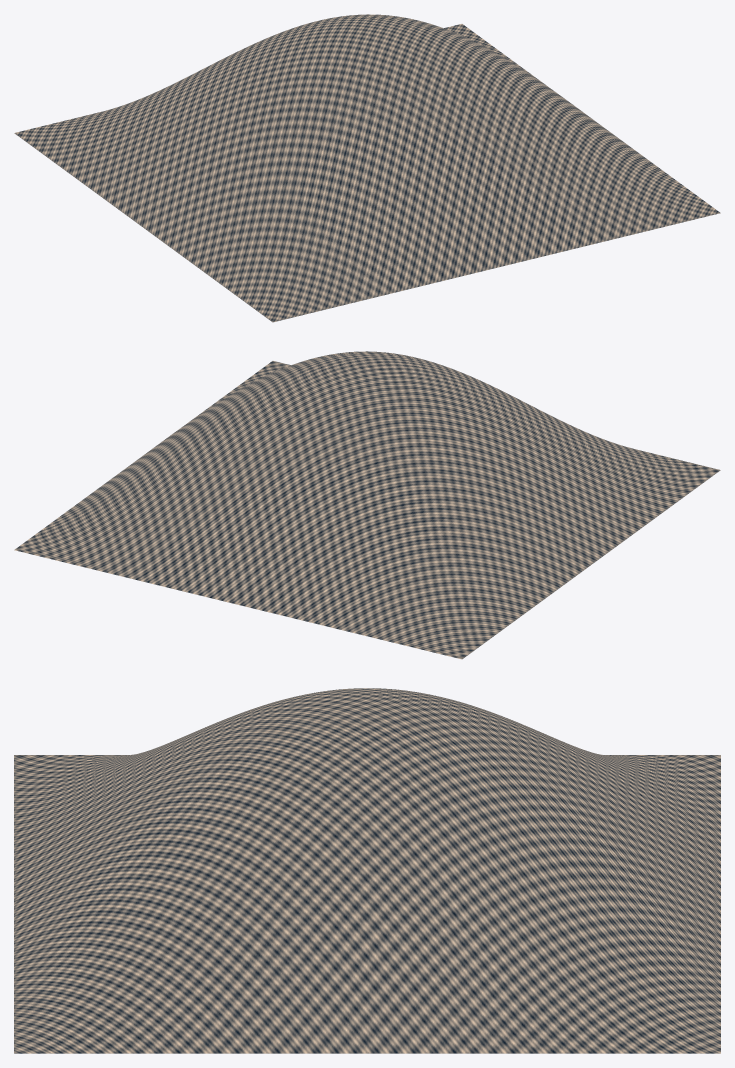
File: dish.glb
3 renders of one model, top to bottom at view 1: azimuth 30°, elevation 25°; view 2: azimuth 150°, elevation 25°; view 3: azimuth 270°, elevation 25°, orthographic. The views are drawn at different scales.
Parts seen in each view (by area): view 1: dish_node; view 2: dish_node; view 3: dish_node.
Part boxes in pixels (<box>): dish_node: <box>14,14,720,322</box>; dish_node: <box>14,351,720,659</box>; dish_node: <box>14,688,720,1053</box>.
Size of the model in its own units: 0.28 by 0.0839 by 0.28.
Materials: 1 (1 with a texture image).
